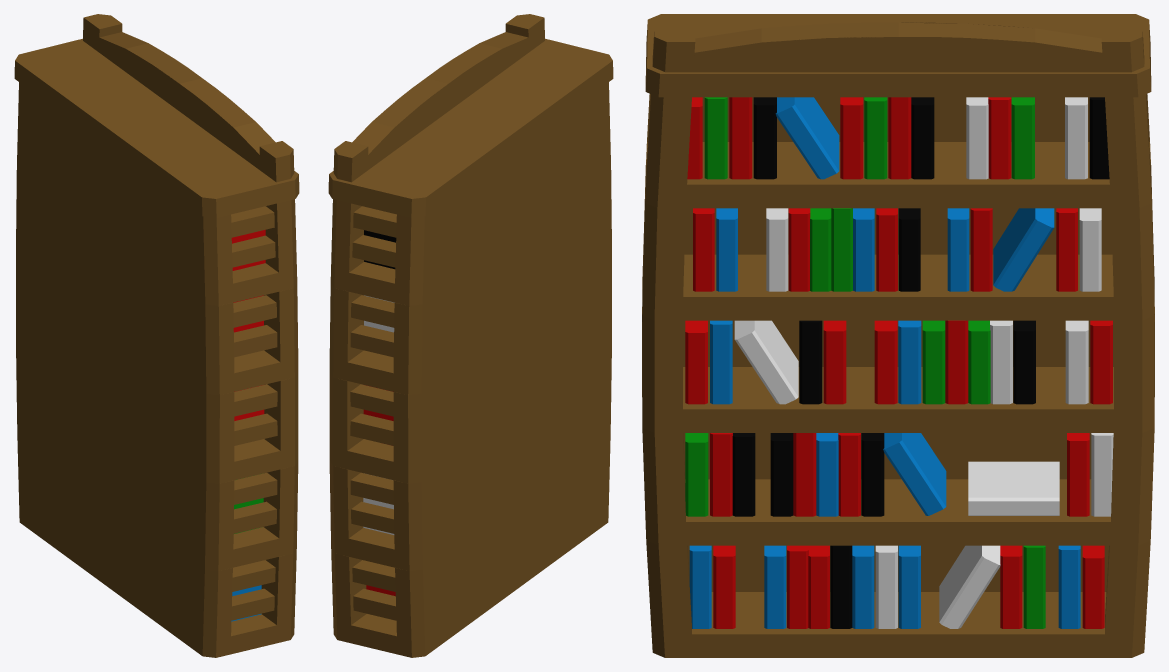
The model's file is Libreria.fbx.
The picture shows the model from 3 angles, left to right: view 1: azimuth 30°, elevation 25°; view 2: azimuth 150°, elevation 25°; view 3: azimuth 270°, elevation 25°; orthographic projection. The views are drawn at different scales.
Parts seen in each view (by area): view 1: Cube.091; view 2: Cube.091; view 3: Cube.091.
Part boxes in pixels (box(x1,y1,x2,y2)): Cube.091: box(14, 14, 299, 657); Cube.091: box(328, 14, 613, 657); Cube.091: box(642, 14, 1154, 657).
Bounding box in the file's own units: 164 × 791 × 592.
